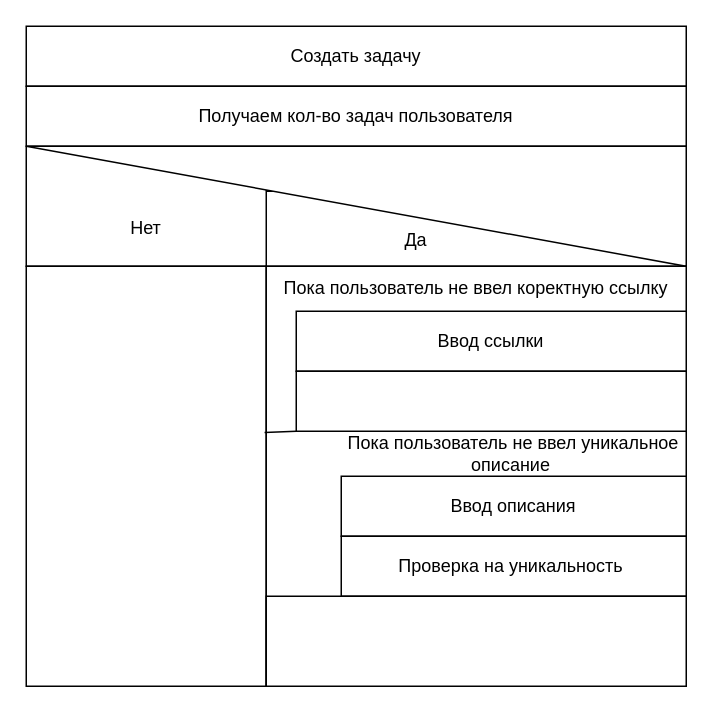
The diagram is 713 pixels wide and 713 high, and some of its shapes have lost their labels. The centre of each missing label's shape, as x and y in pixels:
"Вывод сообщения, что задач не может быть больше 5" goes at (x=145, y=475).
"Кол-во задач пользователя меньше 5" goes at (x=355, y=205).
"Проверка на корректность" goes at (x=490, y=400).
"Сохраняем в базу данных" goes at (x=475, y=640).
